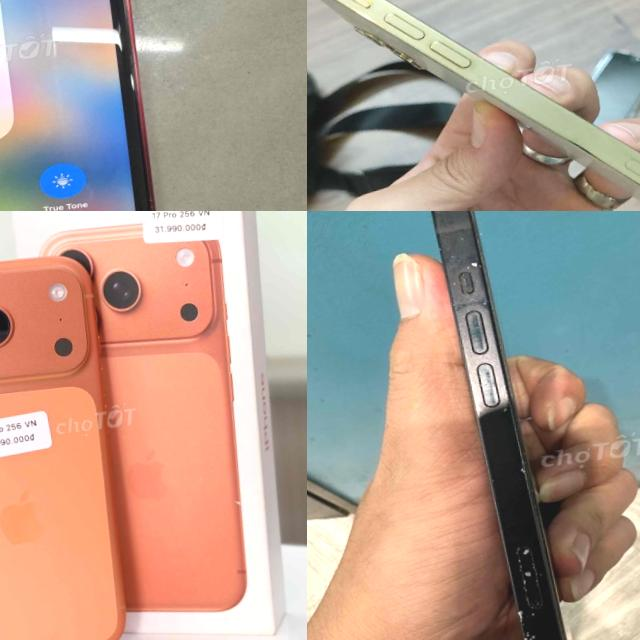scratch: (478, 344, 550, 528), (484, 530, 589, 640), (428, 211, 505, 345)
